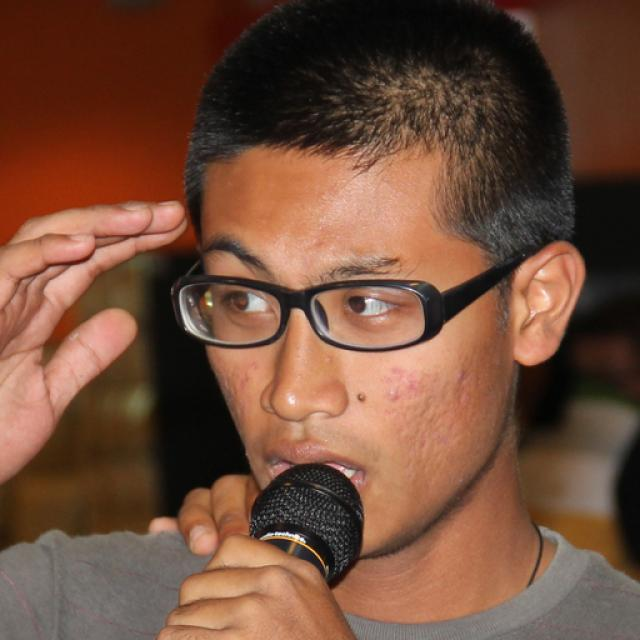Acne: (385, 386, 401, 403), (399, 377, 417, 391), (322, 353, 339, 365), (354, 386, 366, 402)
